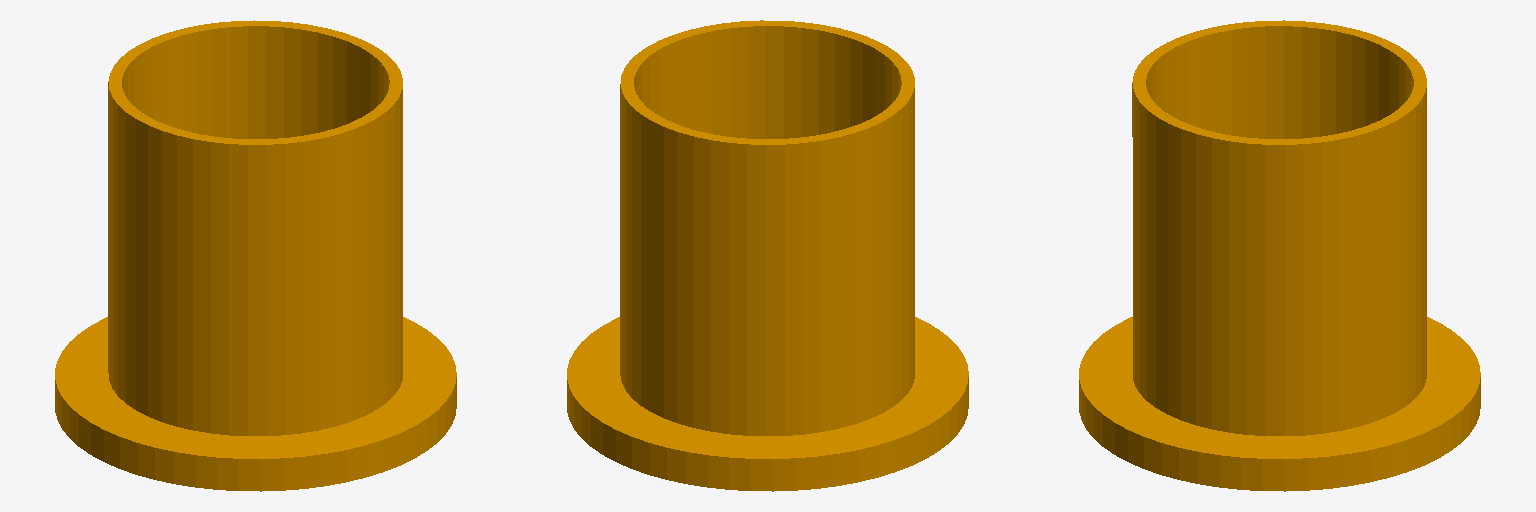
robot.urdf — cylinder_hole_model:
<?xml version="1.0" ?>
<!-- =================================================================================== -->
<!-- |    This document was autogenerated by xacro from [local-path]/projects/personal_ws/src/birmingham_cell/birmingham_cell_description/urdf/cylinder_hole.xacro | -->
<!-- |    EDITING THIS FILE BY HAND IS NOT RECOMMENDED                                 | -->
<!-- =================================================================================== -->
<robot name="cylinder_hole_model">
  <link concave="yes" name="cylinder_hole">
    <inertial>
      <mass value="0.390"/>
      <origin xyz="0 0 0"/>
      <inertia ixx="0.0005" ixy="0.0" ixz="0.0" iyy="0.0005" iyz="0.0" izz="0.0005"/>
    </inertial>
    <visual>
      <origin rpy="0 0 0" xyz="0 0 0"/>
      <geometry>
        <mesh filename="package://birmingham_cell_description/meshes/Cylinder_hole.STL" scale="0.045 0.045 0.06"/>
      </geometry>
    </visual>
    <collision concave="yes">
      <origin rpy="0 0 0" xyz="0 0 0"/>
      <geometry>
        <mesh filename="package://birmingham_cell_description/meshes/Cylinder_hole.STL" scale="0.045 0.045 0.06"/>
      </geometry>
    </collision>
  </link>
</robot>

--- Render facts (derived) ---
3 views of the same robot in one strip: view 1: azimuth 30°, elevation 25°; view 2: azimuth 150°, elevation 25°; view 3: azimuth 270°, elevation 25° (orthographic).
Model cylinder_hole_model with 1 links and 0 joints (none), rooted at cylinder_hole, posed all joints at 0.
Links seen in each view (by area): view 1: cylinder_hole; view 2: cylinder_hole; view 3: cylinder_hole.
Link boxes in pixels (x1,y1,x2,y2): cylinder_hole: (55, 20, 456, 491); cylinder_hole: (567, 20, 968, 491); cylinder_hole: (1079, 20, 1480, 491).
Bounding box of the posed robot: 0.0675 × 0.0674 × 0.06 m (x, y, z).
1 mesh visuals loaded from 1 distinct referenced files (1 binary STL).
